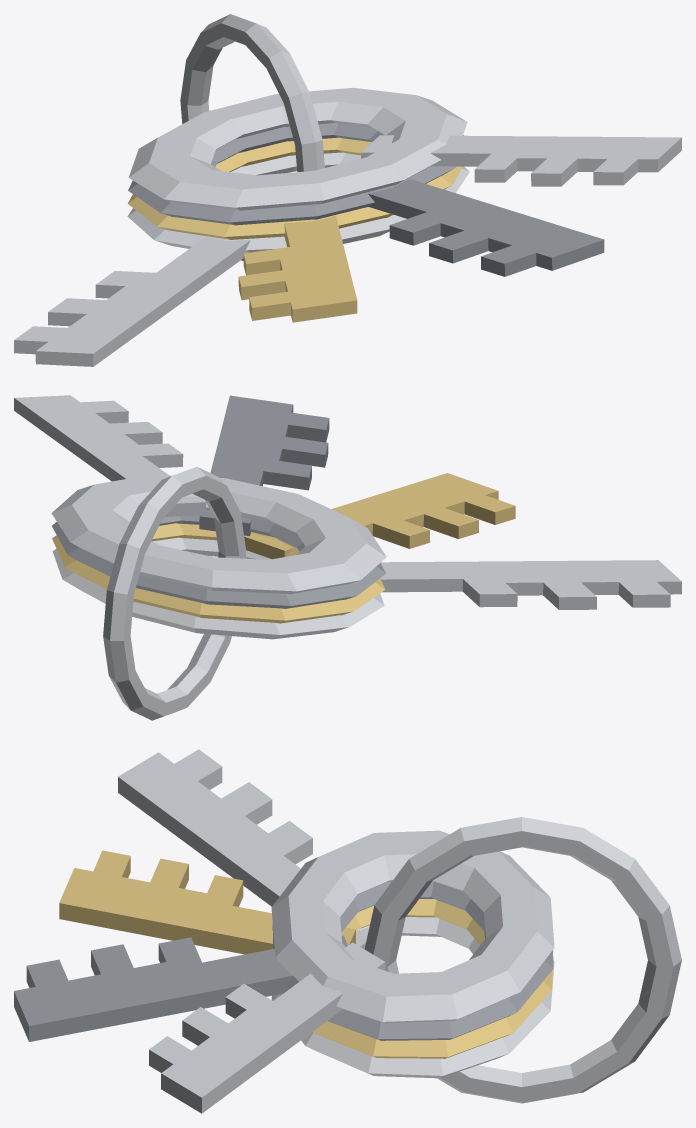
The model's file is Keychain.fbx.
3 views of the same model, one above another, from view 1: azimuth 30°, elevation 25°; view 2: azimuth 150°, elevation 25°; view 3: azimuth 270°, elevation 25° (orthographic). The views are drawn at different scales.
Visible parts, largest first — view 1: Keychain; view 2: Keychain; view 3: Keychain.
Part boxes in pixels (<box>): Keychain: <box>14,14,681,366</box>; Keychain: <box>14,395,681,720</box>; Keychain: <box>14,749,681,1113</box>.
Bounding box in the file's own units: 0.0825 × 0.0282 × 0.0589.
